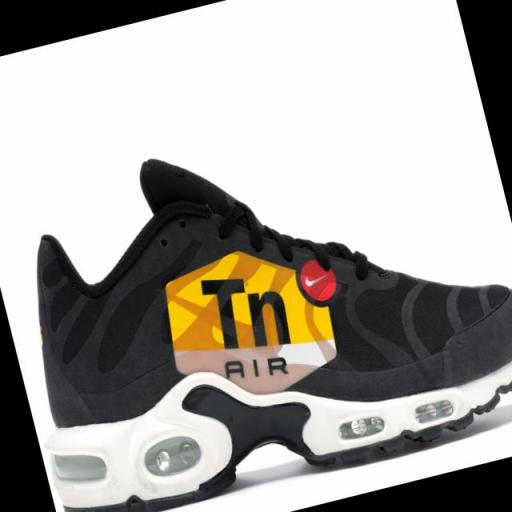Nike: (302, 270, 332, 288)
